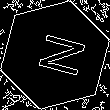N_W: (25, 29, 85, 81)
